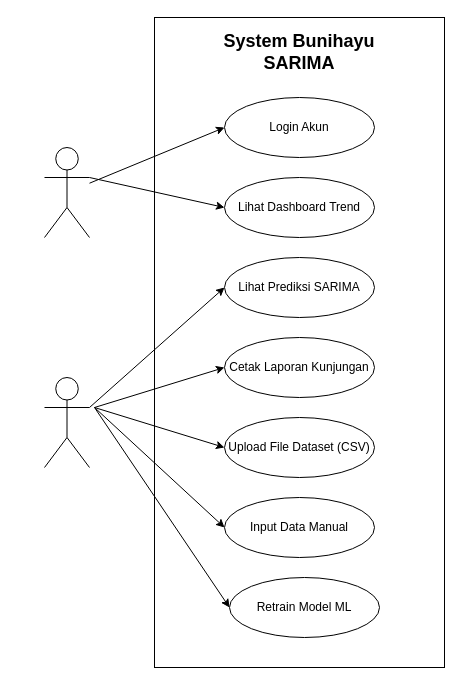
Image size: 462x685. Some labels were removed from this diagram. The shapes that lost their labels are listed below. From the top down, each one's box as (x1, y1, x2, y2) in pixels, then its label:
(44, 146, 90, 238): Staff / Pengunjung
(44, 376, 90, 468): Pengelola / Admin
